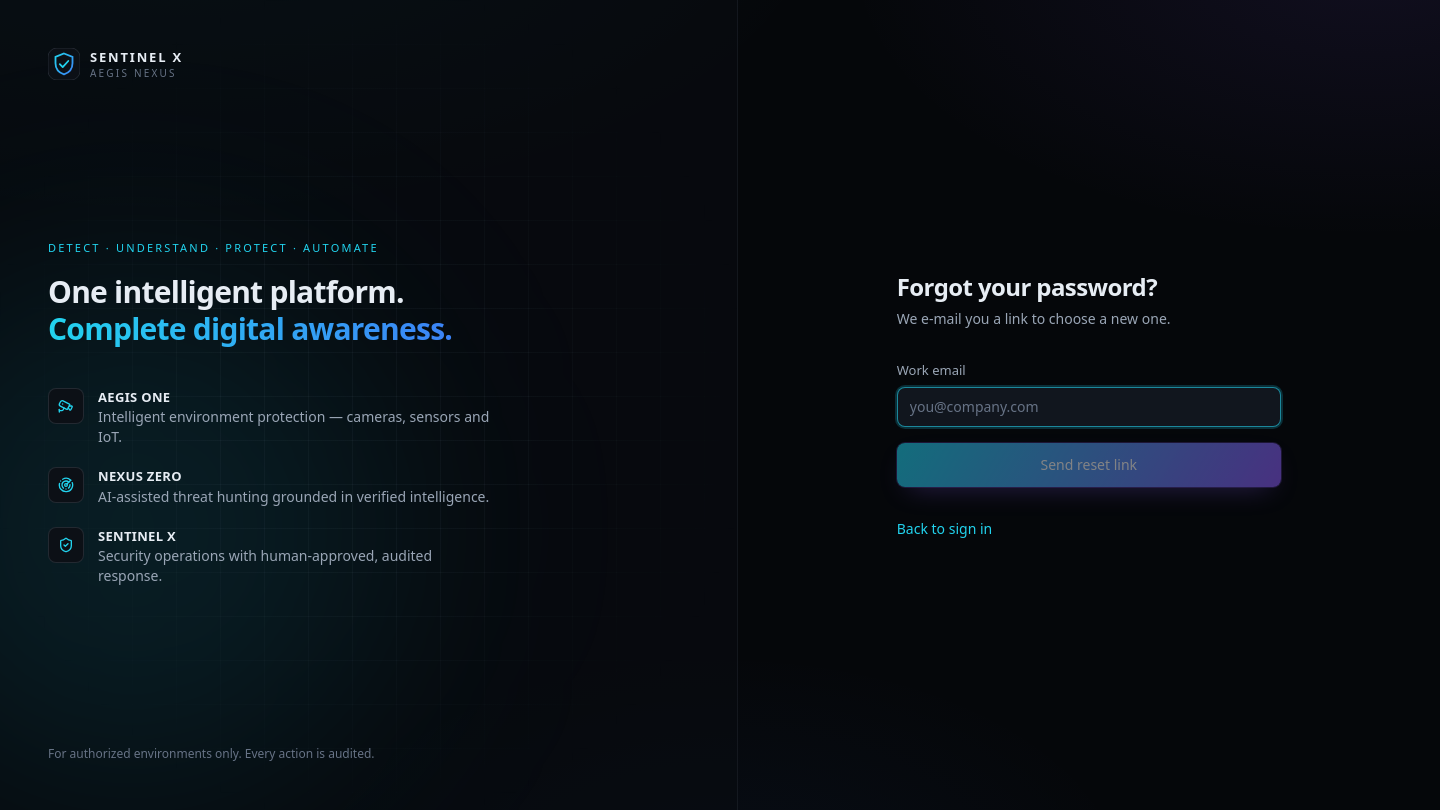
Test: account pages › forgot password: same answer for every address
Step 1. Type "someone@example.com" into the field labelled "Work email" → (1089, 407), box [897,387,1281,427]
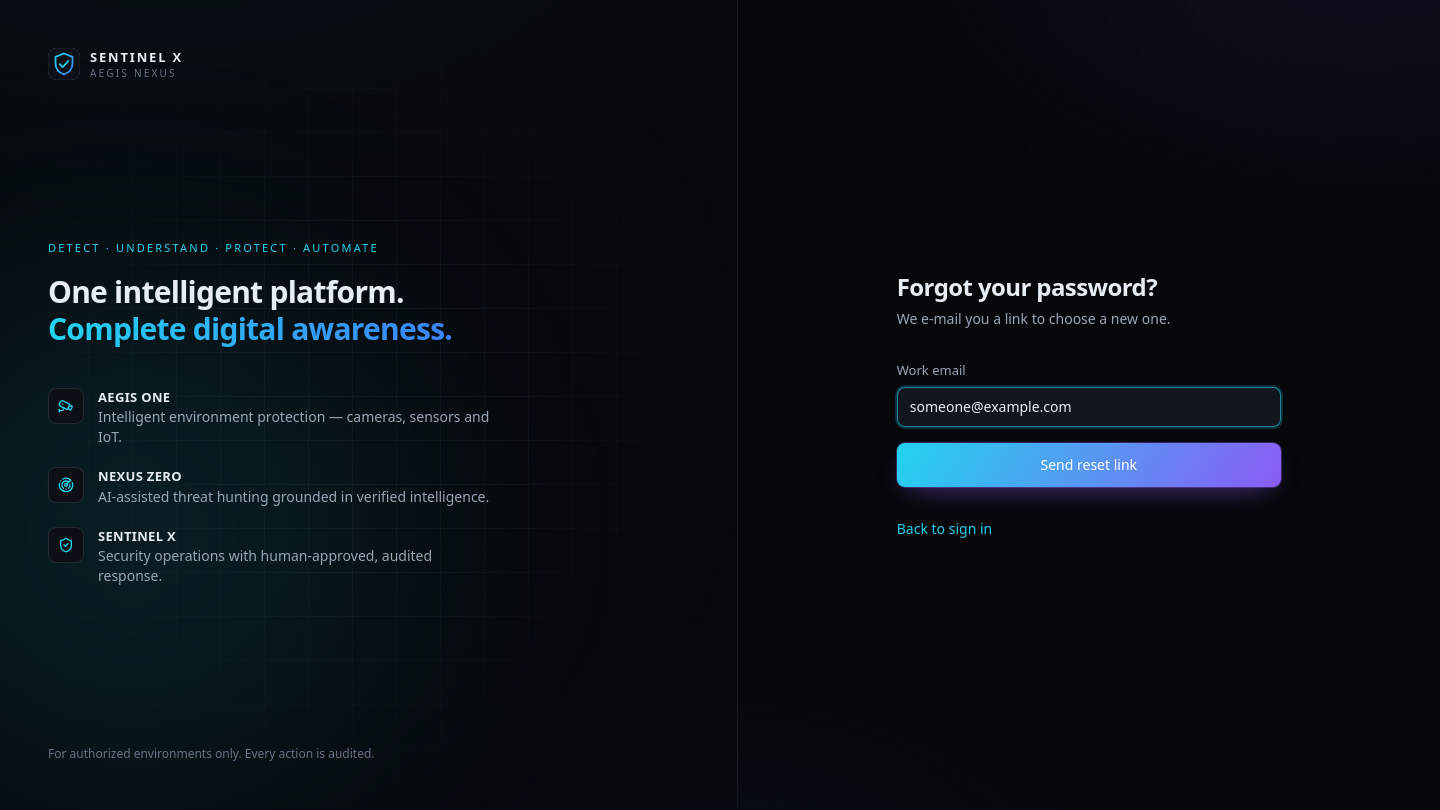
Step 2. Click the button "Send reset link" → click(1089, 465), box [897,443,1281,487]
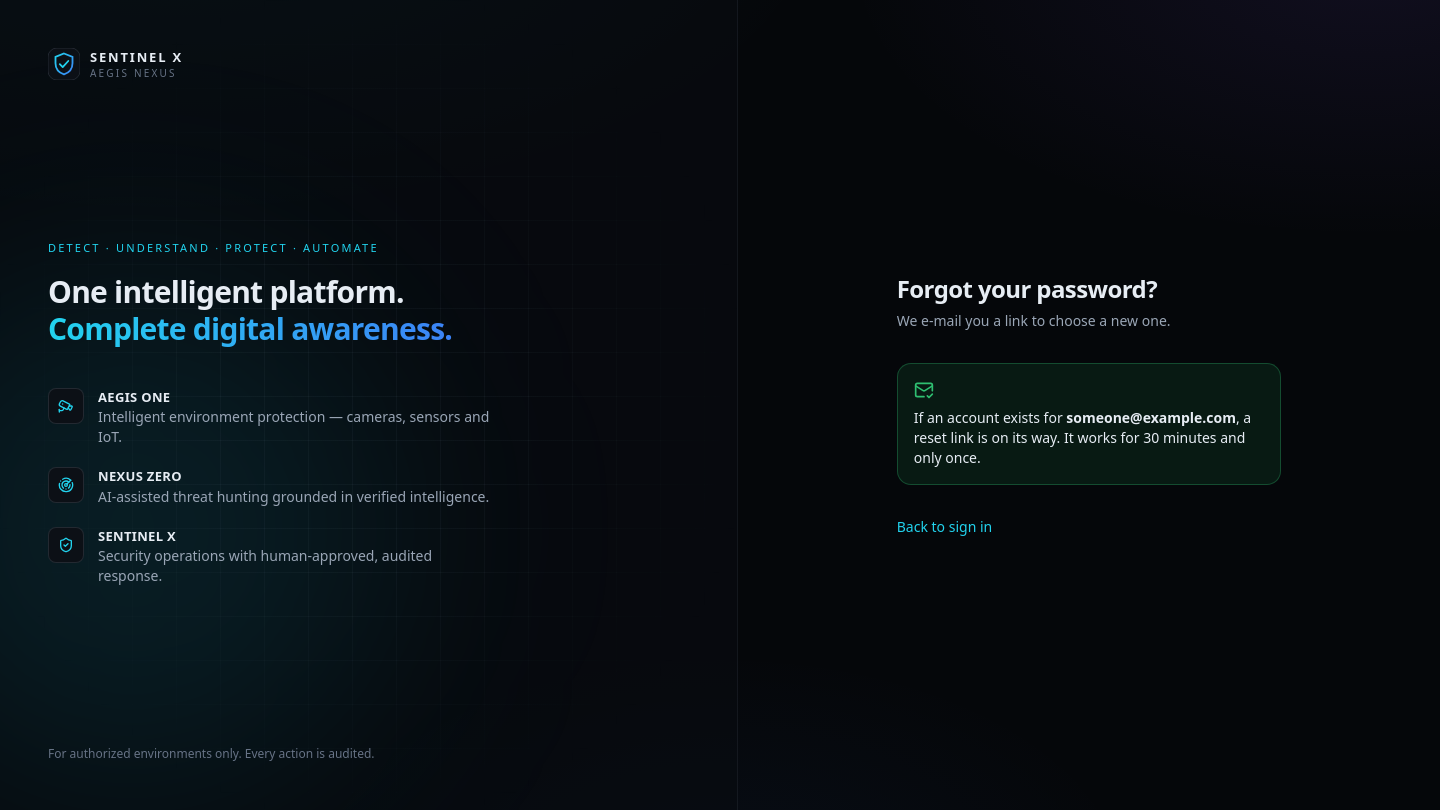
Expected: the text "a reset link is on its way" is shown, [914,408,1251,467]
